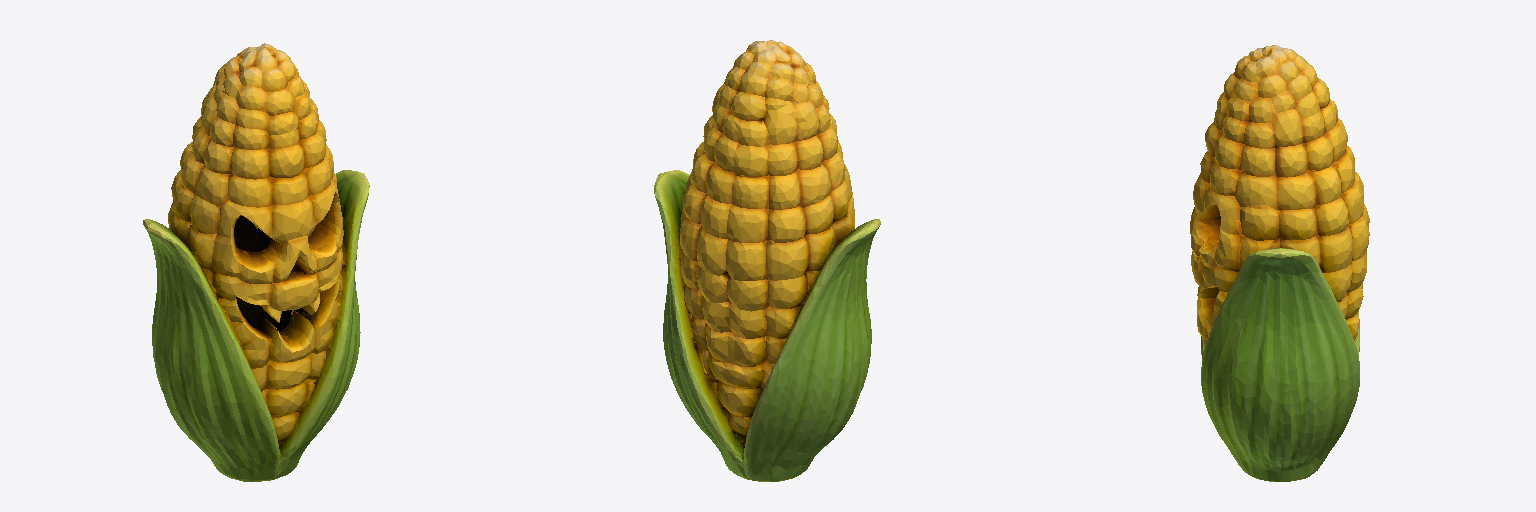
3 renders of one model, left to right at view 1: azimuth 30°, elevation 25°; view 2: azimuth 150°, elevation 25°; view 3: azimuth 270°, elevation 25°, orthographic.
Parts seen in each view (by area): view 1: Corn_Creep_[number redacted]_texture; view 2: Corn_Creep_[number redacted]_texture; view 3: Corn_Creep_[number redacted]_texture.
Boxes of the visible parts, box(x1,y1,x2,y2) form: Corn_Creep_[number redacted]_texture: box(143, 43, 369, 481); Corn_Creep_[number redacted]_texture: box(654, 40, 880, 481); Corn_Creep_[number redacted]_texture: box(1190, 45, 1369, 481).
Size of the model in its own units: 1.04 by 1.92 by 0.7411.
Materials: 1 (1 with a texture image).